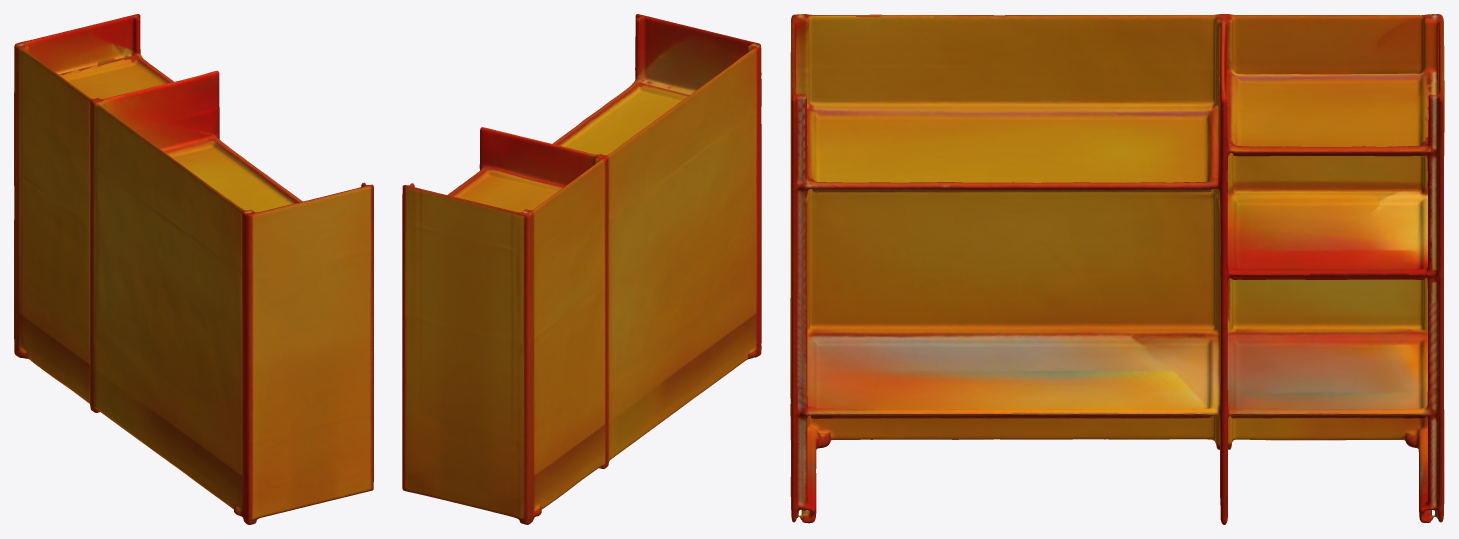
The picture shows the model from 3 angles, left to right: view 1: azimuth 30°, elevation 25°; view 2: azimuth 150°, elevation 25°; view 3: azimuth 270°, elevation 25°; orthographic projection. The views are drawn at different scales.
Parts seen in each view (by area): view 1: tripo_node_b4b1bb00-0da6-4fa5-83c8-64bc0adc2bf0; view 2: tripo_node_b4b1bb00-0da6-4fa5-83c8-64bc0adc2bf0; view 3: tripo_node_b4b1bb00-0da6-4fa5-83c8-64bc0adc2bf0.
Boxes of the visible parts, left/top/right/bottom form: tripo_node_b4b1bb00-0da6-4fa5-83c8-64bc0adc2bf0: left=14, top=14, right=373, bottom=524; tripo_node_b4b1bb00-0da6-4fa5-83c8-64bc0adc2bf0: left=402, top=14, right=761, bottom=524; tripo_node_b4b1bb00-0da6-4fa5-83c8-64bc0adc2bf0: left=790, top=14, right=1444, bottom=524.
Size of the model in its own units: 0.3032 by 0.6909 by 0.9493.
Materials: 1 (1 with a texture image).
